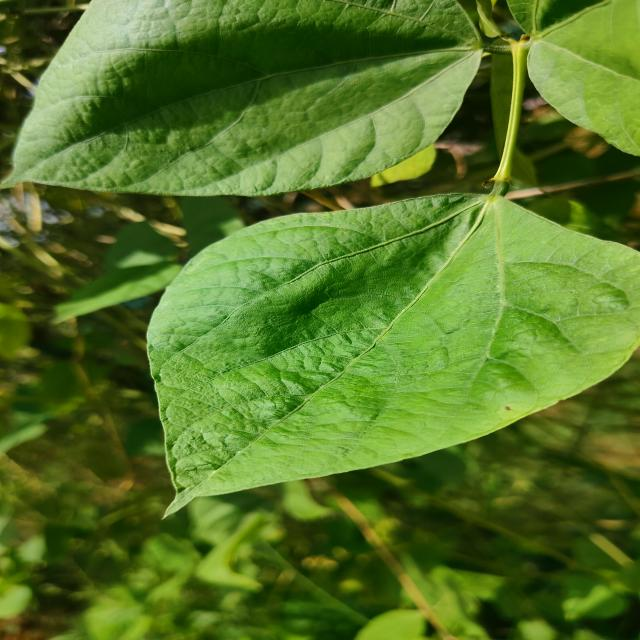Dolicos bean_healthy: (142, 191, 640, 518), (0, 0, 485, 193)
